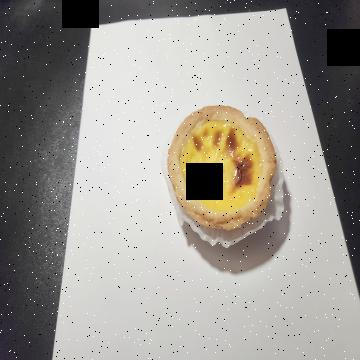EggTart: (166, 104, 278, 234)
